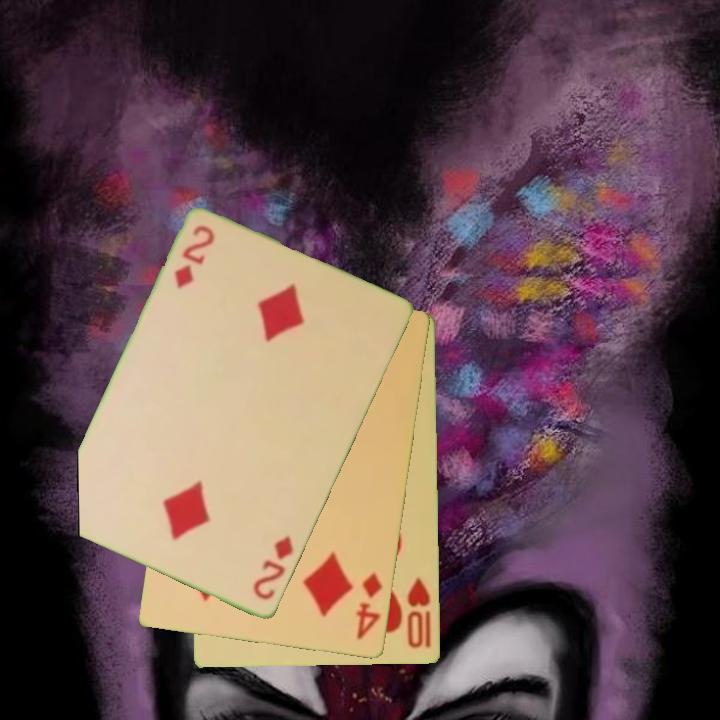10h: (404, 574, 434, 651)
2d: (250, 532, 297, 604), (171, 222, 218, 293)
4d: (353, 570, 386, 643)
